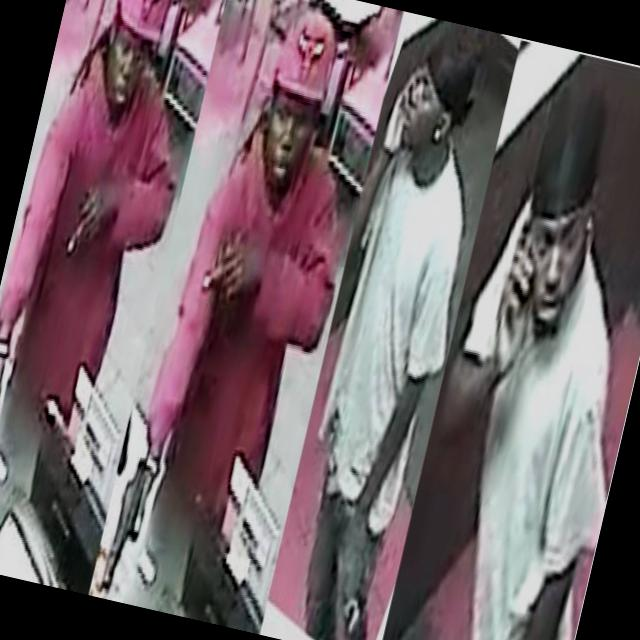handgun: (81, 429, 166, 602)
